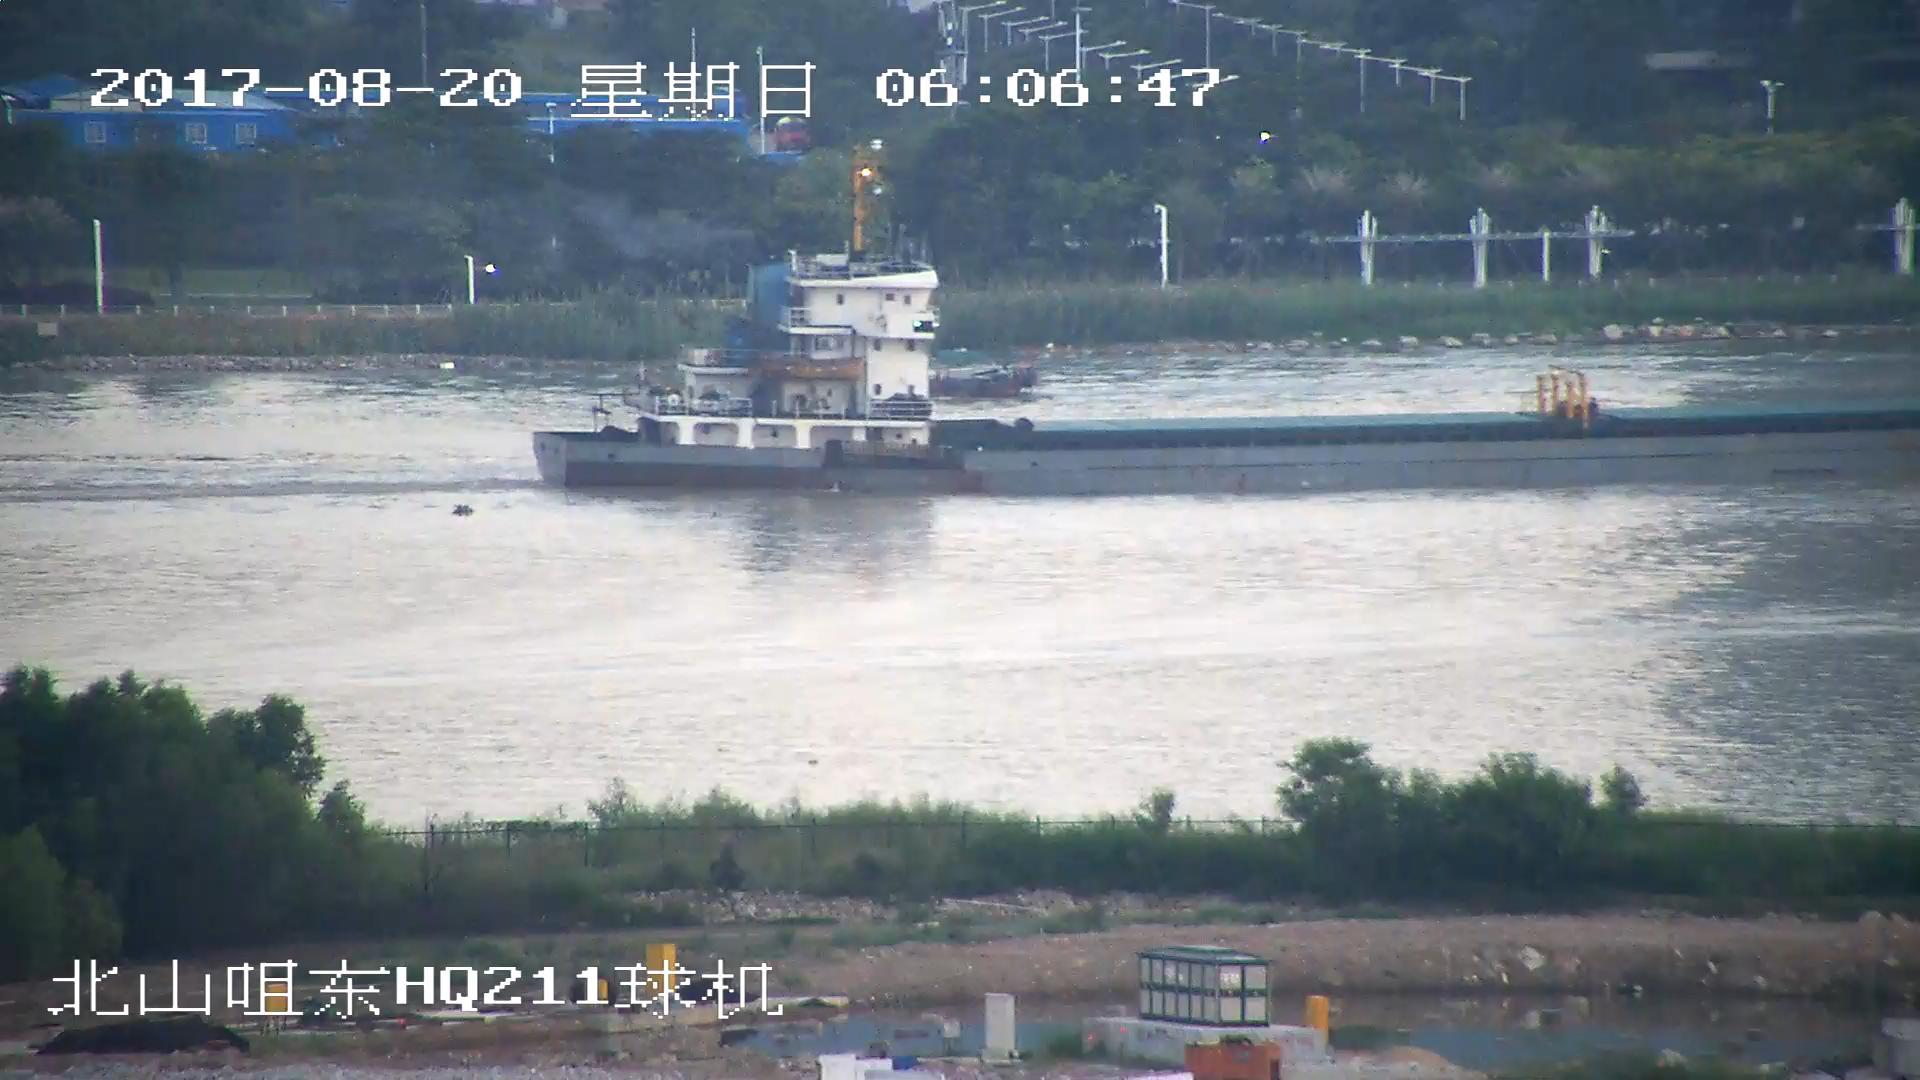Ship: (549, 207, 1920, 491)
